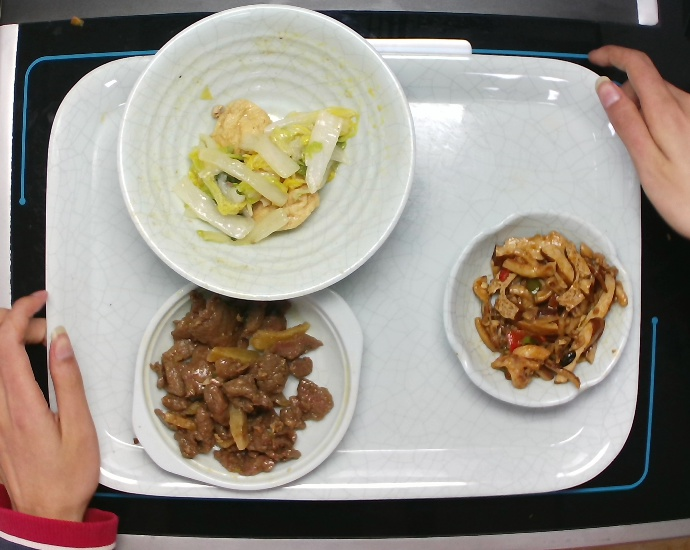JYsf-Ao_Yuan_Wan: (442, 207, 632, 409)
JYsf-Shuang_Er_Pan: (127, 269, 366, 495)
JYsf-Xiao_Tang_Wan: (113, 5, 415, 306)
